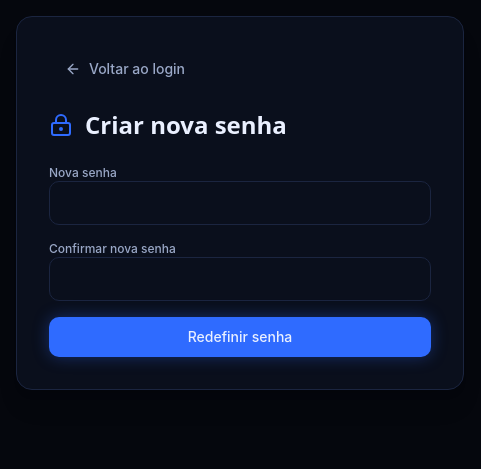
Test: password recovery flow › rejects mismatched passwords and consumes a valid reset link
Later steps or results of the test are not shown.
Type "new-password-123" into the password field labelled "Nova senha". click: (240, 203)
box: [49,181,431,225]
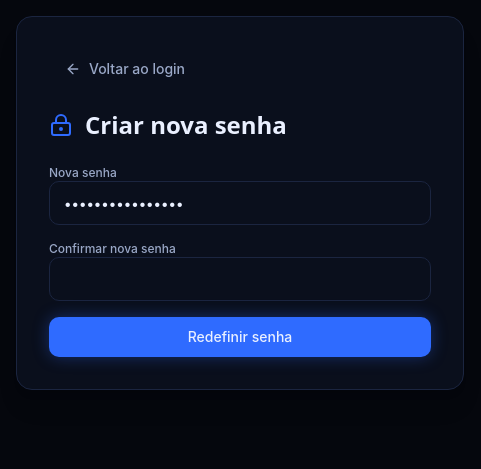
Type "different-password" into the password field labelled "Confirmar nova senha". click: (240, 279)
box: [49,257,431,301]
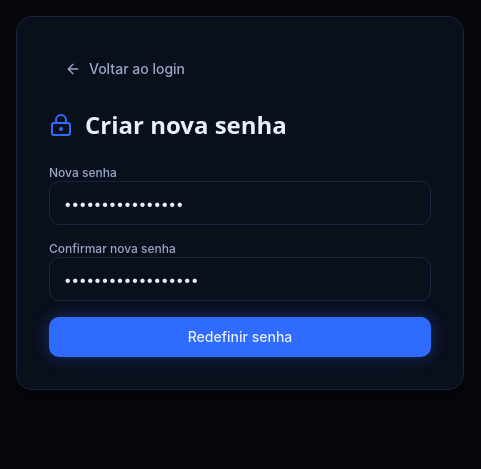
Click the button "Redefinir senha". click: (240, 337)
box: [49,317,431,357]
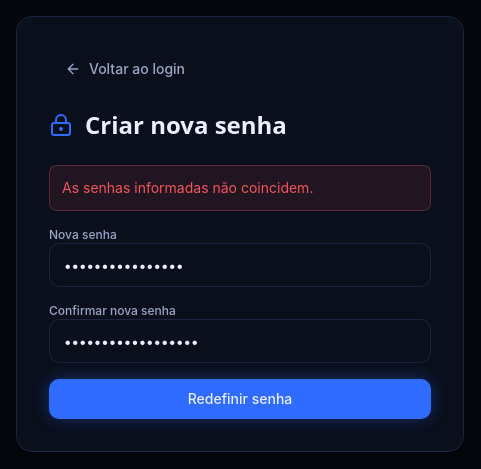
Now the message shows "não coincidem", box [62,179,313,196]
